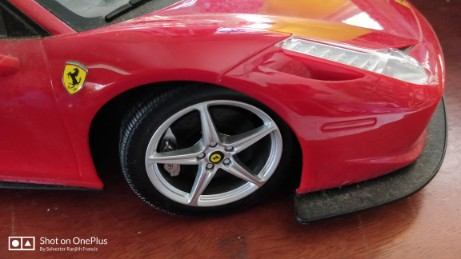unaligned_wheel: (111, 83, 296, 218)
